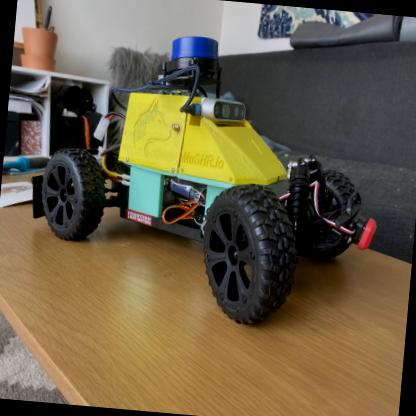mushr_car: (17, 20, 391, 342)
